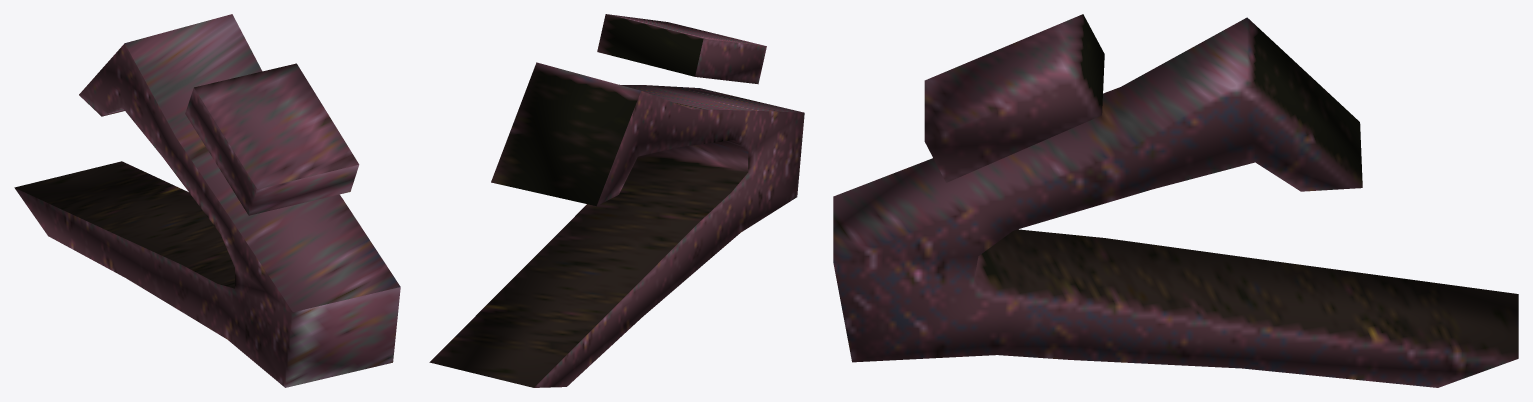
File: end2.gltf
The picture shows the model from 3 angles, left to right: view 1: azimuth 30°, elevation 25°; view 2: azimuth 150°, elevation 25°; view 3: azimuth 270°, elevation 25°; orthographic projection. The views are drawn at different scales.
Parts seen in each view (by area): view 1: mesh0_noesis_meshnode_0000; view 2: mesh0_noesis_meshnode_0000; view 3: mesh0_noesis_meshnode_0000.
Boxes of the visible parts, <box> form: mesh0_noesis_meshnode_0000: <box>14,14,400,387</box>; mesh0_noesis_meshnode_0000: <box>429,14,804,387</box>; mesh0_noesis_meshnode_0000: <box>833,14,1518,387</box>.
Size of the model in its own units: 6.13 by 13.74 by 27.46.
Materials: 1 (1 with a texture image).
